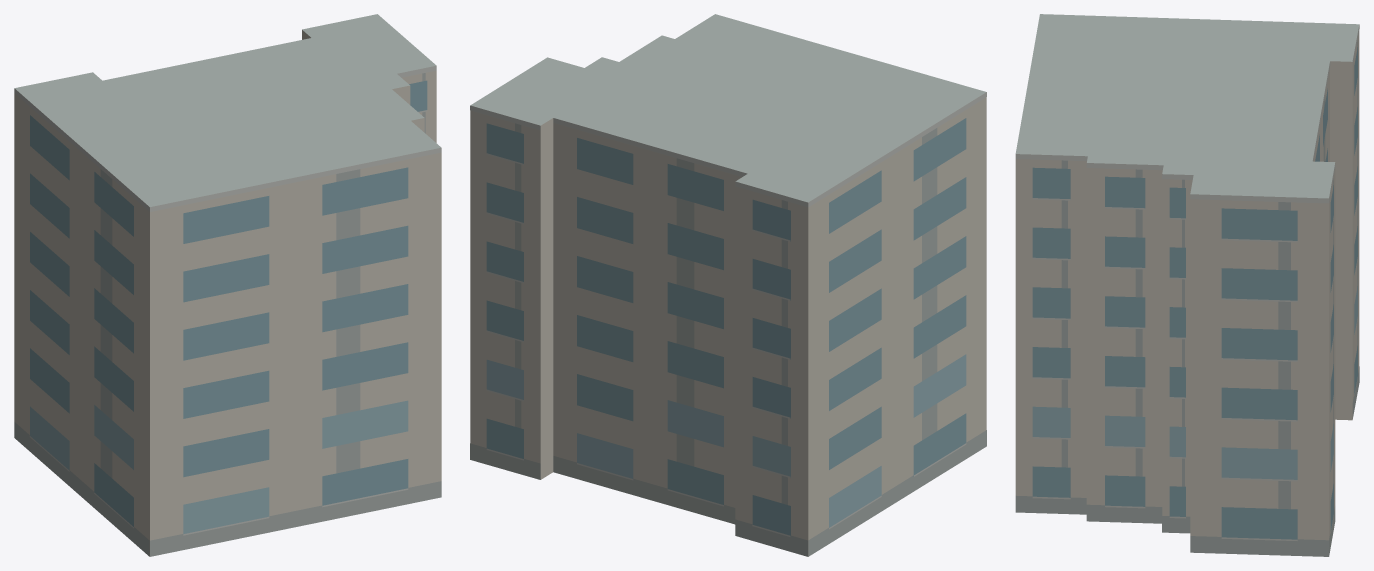
Rendered from survey-upis-32834284.glb.
The picture shows the model from 3 angles, left to right: view 1: azimuth 30°, elevation 25°; view 2: azimuth 150°, elevation 25°; view 3: azimuth 270°, elevation 25°; orthographic projection. The views are drawn at different scales.
Visible parts, largest first — view 1: survey-upis-32834284.tmp; view 2: survey-upis-32834284.tmp; view 3: survey-upis-32834284.tmp.
Boxes of the visible parts, x1,y1,x2,y2 form: survey-upis-32834284.tmp: (14,14,441,556); survey-upis-32834284.tmp: (470,14,986,556); survey-upis-32834284.tmp: (1015,14,1359,556).
Bounding box in the file's own units: 19.21 × 17.4 × 15.14.
